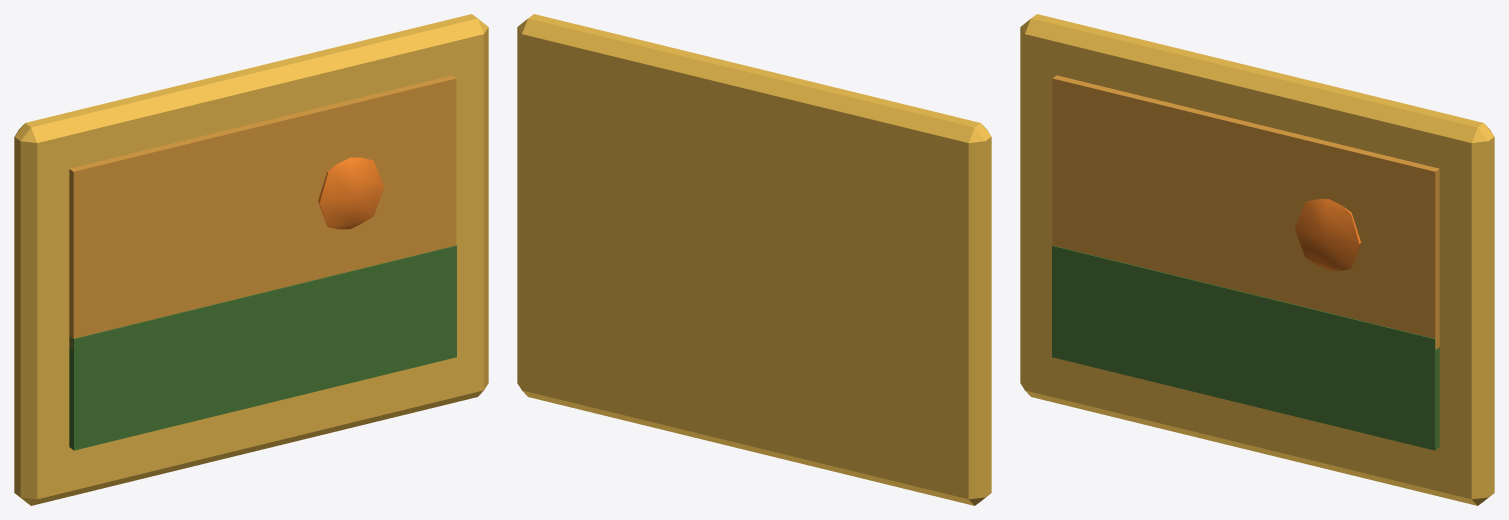
Rendered from PR_Inn_Tablo.fbx.
3 views of the same model, side by side, from view 1: azimuth 30°, elevation 25°; view 2: azimuth 150°, elevation 25°; view 3: azimuth 330°, elevation 25° (orthographic).
Parts seen in each view (by area): view 1: PR_Inn_Tablo; view 2: PR_Inn_Tablo; view 3: PR_Inn_Tablo.
Part boxes in pixels (x1,y1,x2,y2): PR_Inn_Tablo: (14, 14, 488, 505); PR_Inn_Tablo: (517, 14, 991, 505); PR_Inn_Tablo: (1020, 14, 1494, 505).
Bounding box in the file's own units: 0.44 × 0.34 × 0.0455.
1 material, 1 textured.
